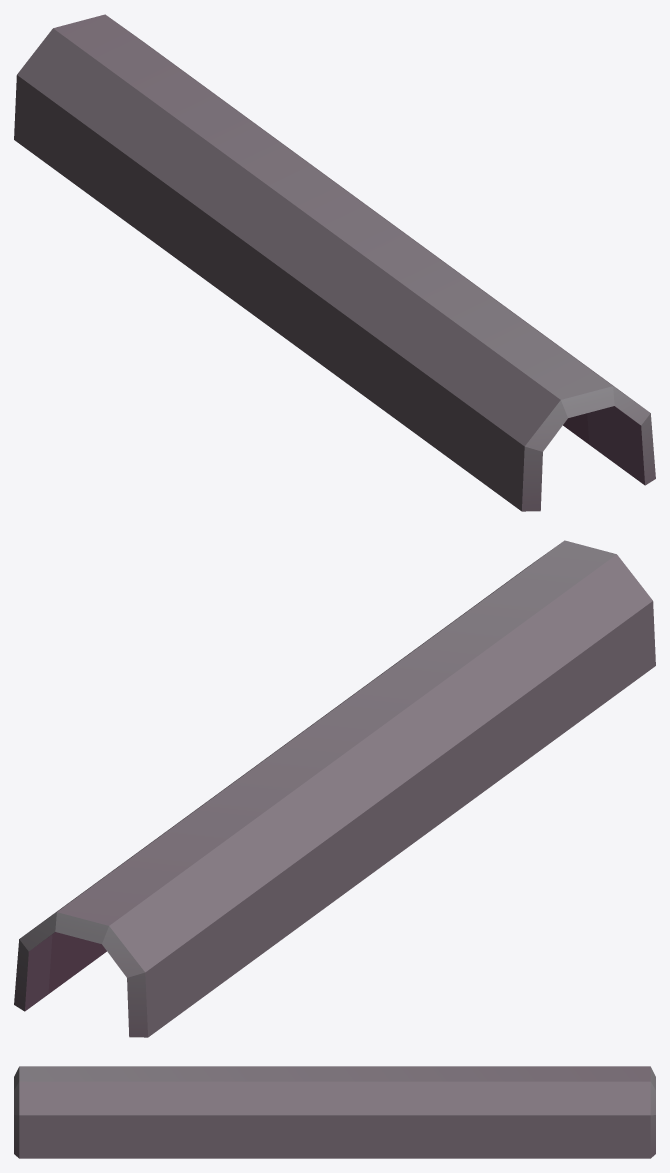
File: obj_Tunel.fbx
3 renders of one model, top to bottom at view 1: azimuth 30°, elevation 25°; view 2: azimuth 150°, elevation 25°; view 3: azimuth 270°, elevation 25°, orthographic. The views are drawn at different scales.
Parts seen in each view (by area): view 1: obj_Tunel; view 2: obj_Tunel; view 3: obj_Tunel.
Boxes of the visible parts, x1,y1,x2,y2 form: obj_Tunel: (14,14,655,511); obj_Tunel: (14,540,655,1037); obj_Tunel: (14,1066,655,1158).
Size of the model in its own units: 3000 by 2205 by 20000.
